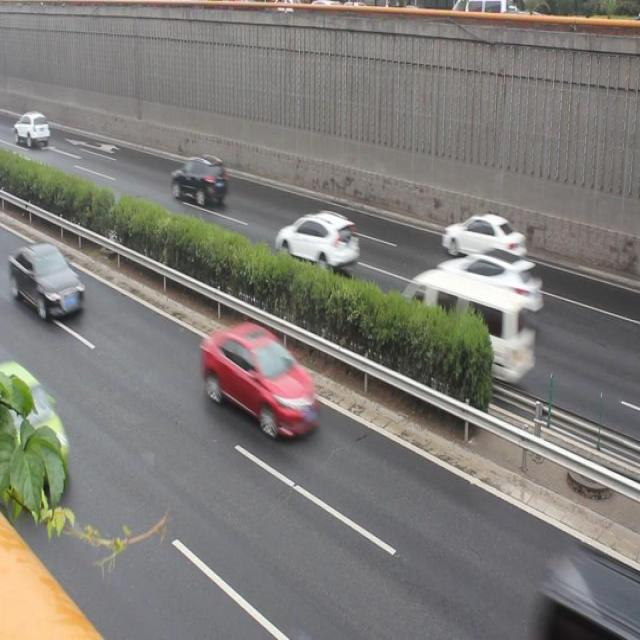car: (200, 320, 323, 444), (1, 360, 78, 498), (436, 243, 543, 314), (10, 234, 86, 321), (277, 206, 358, 275), (440, 203, 520, 264), (168, 149, 225, 210)
truck: (394, 266, 532, 381)
